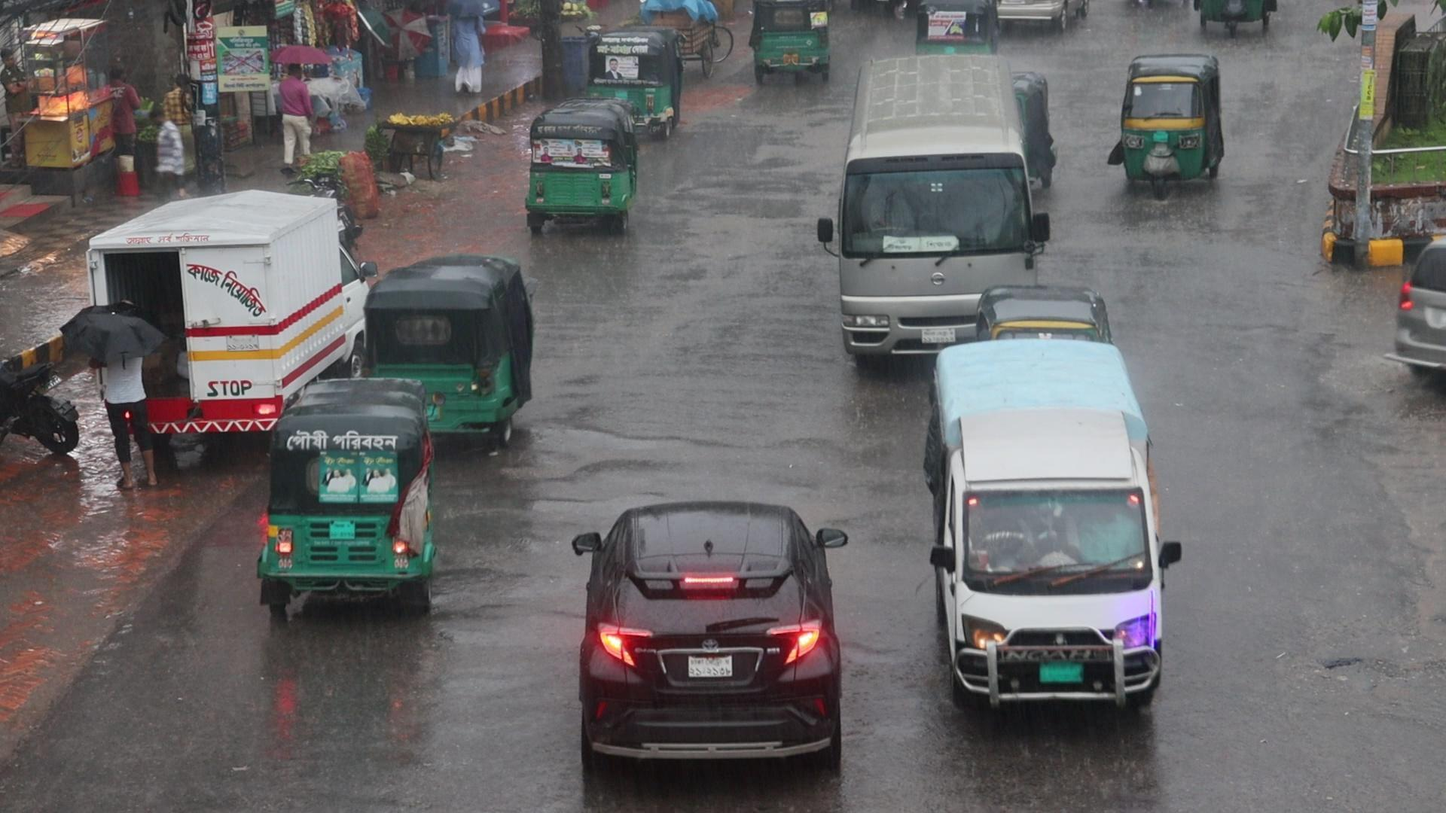Bus: (836, 50, 1039, 283)
Car: (572, 495, 847, 785)
Truck: (924, 332, 1174, 713)
